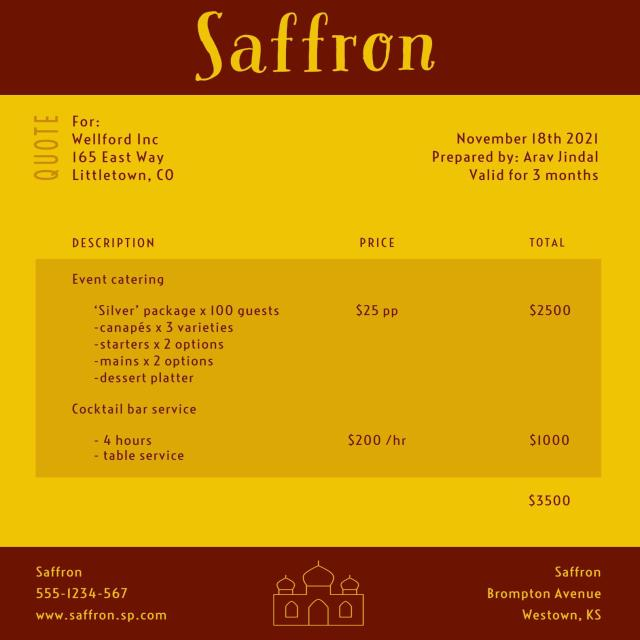paragraph: (167, 3, 454, 95), (427, 114, 618, 192), (27, 100, 198, 187), (9, 550, 184, 627), (474, 559, 618, 628), (523, 490, 589, 516)
table: (42, 220, 586, 472)
